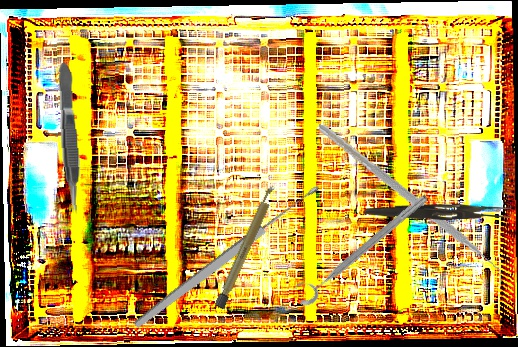Chopper: (302, 124, 518, 290)
Dressing Forceps: (363, 201, 513, 223)
Fixation Ring: (288, 183, 432, 311)
Scalpel Handle: (214, 182, 279, 311)
Surgical Spoon: (130, 181, 324, 332)
Tissue Forceps: (56, 62, 83, 215)
